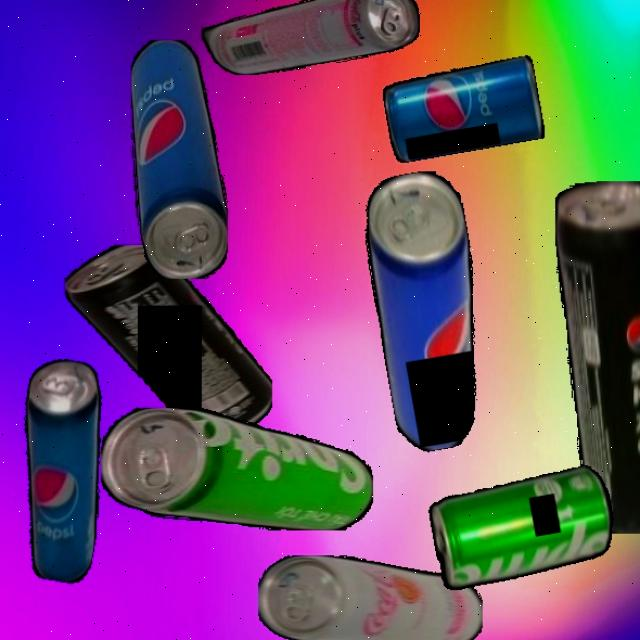debris: (355, 166, 503, 456), (64, 245, 272, 435), (101, 407, 373, 530), (554, 180, 640, 534), (0, 354, 125, 586), (427, 463, 620, 592), (130, 39, 228, 279), (258, 554, 483, 640), (380, 55, 546, 164), (200, 0, 420, 75)
